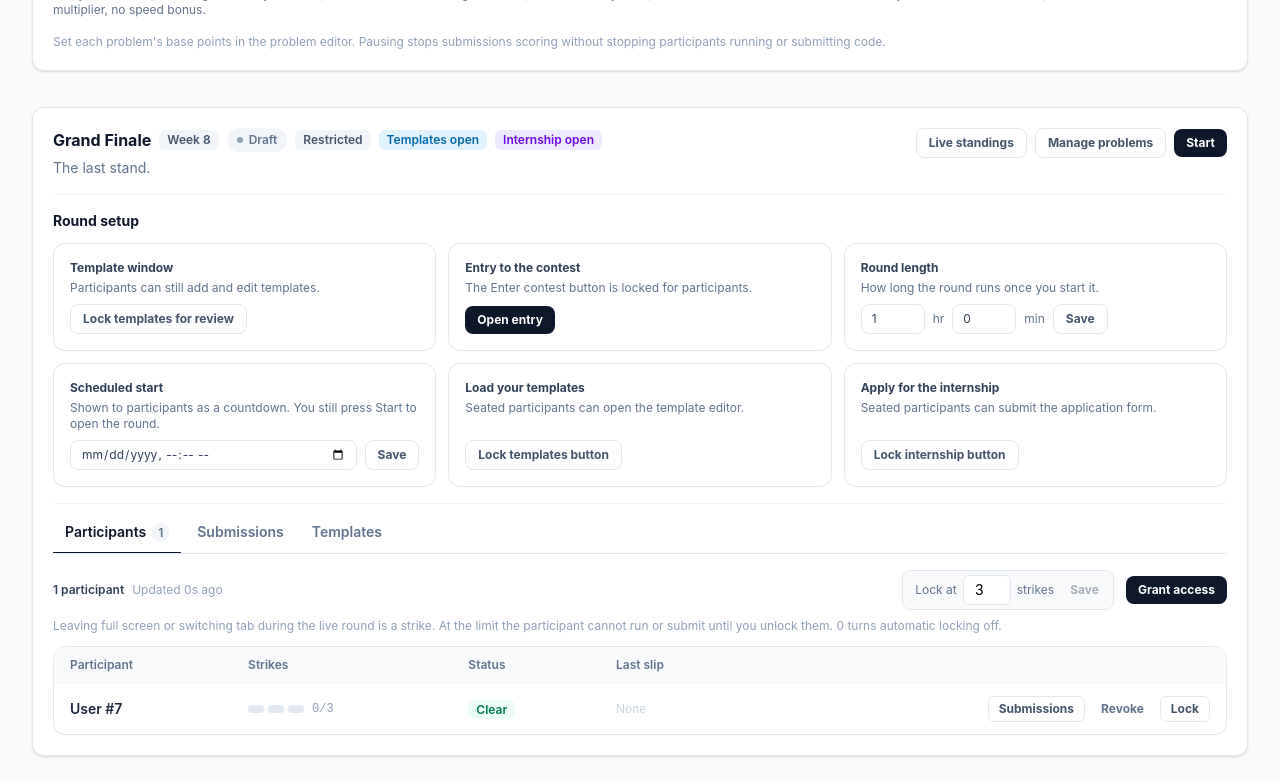
Scenario: FinalesPage › resolves grant names from the grant-search cache instead of showing a bare id
(page scrolled)
Expected: the heading "Grand Finale" is shown, x1=53 y1=128 x2=151 y2=152
Expected: the text "User #7" is shown, x1=70 y1=700 x2=122 y2=717
Step 1. Click the button "Grant access" → (1176, 590), box x1=1126 y1=576 x2=1227 y2=604
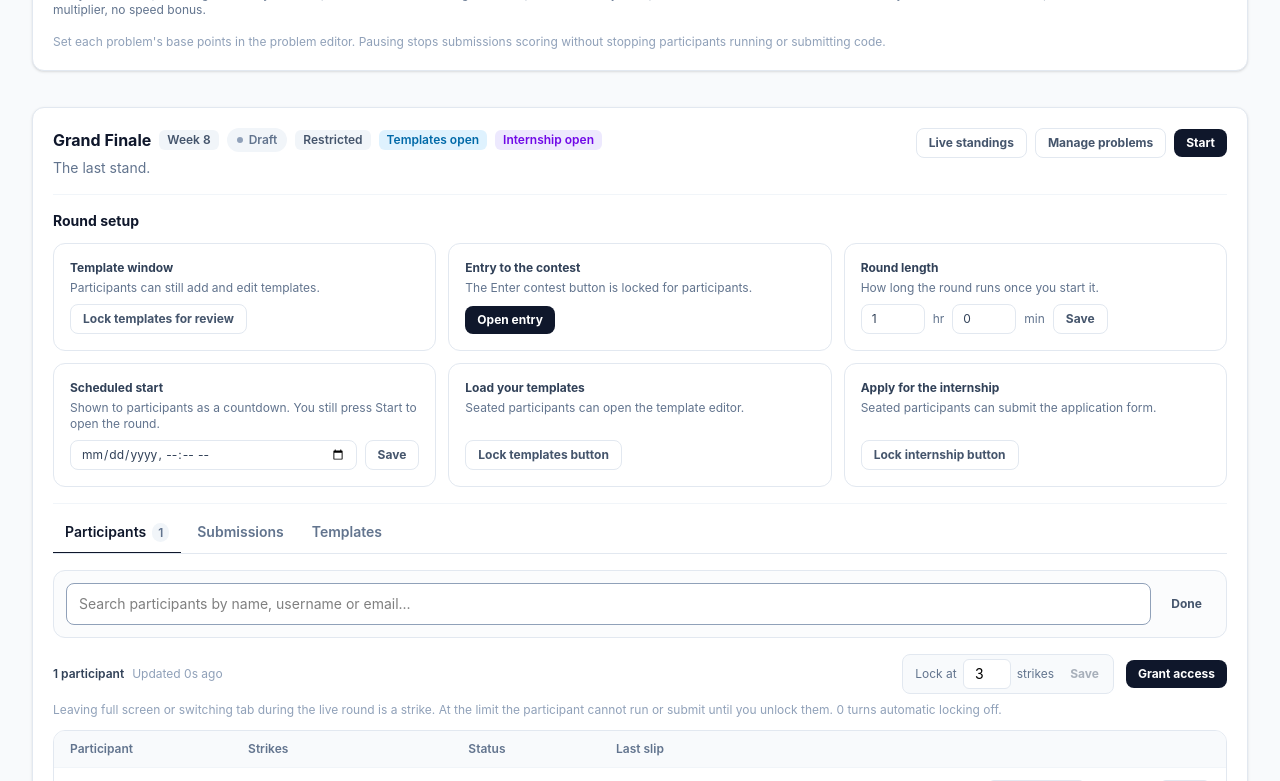
Step 2. Type "ada" into the field with placeholder "Search participants by name, username or email..." → (609, 604), box x1=66 y1=583 x2=1151 y2=625
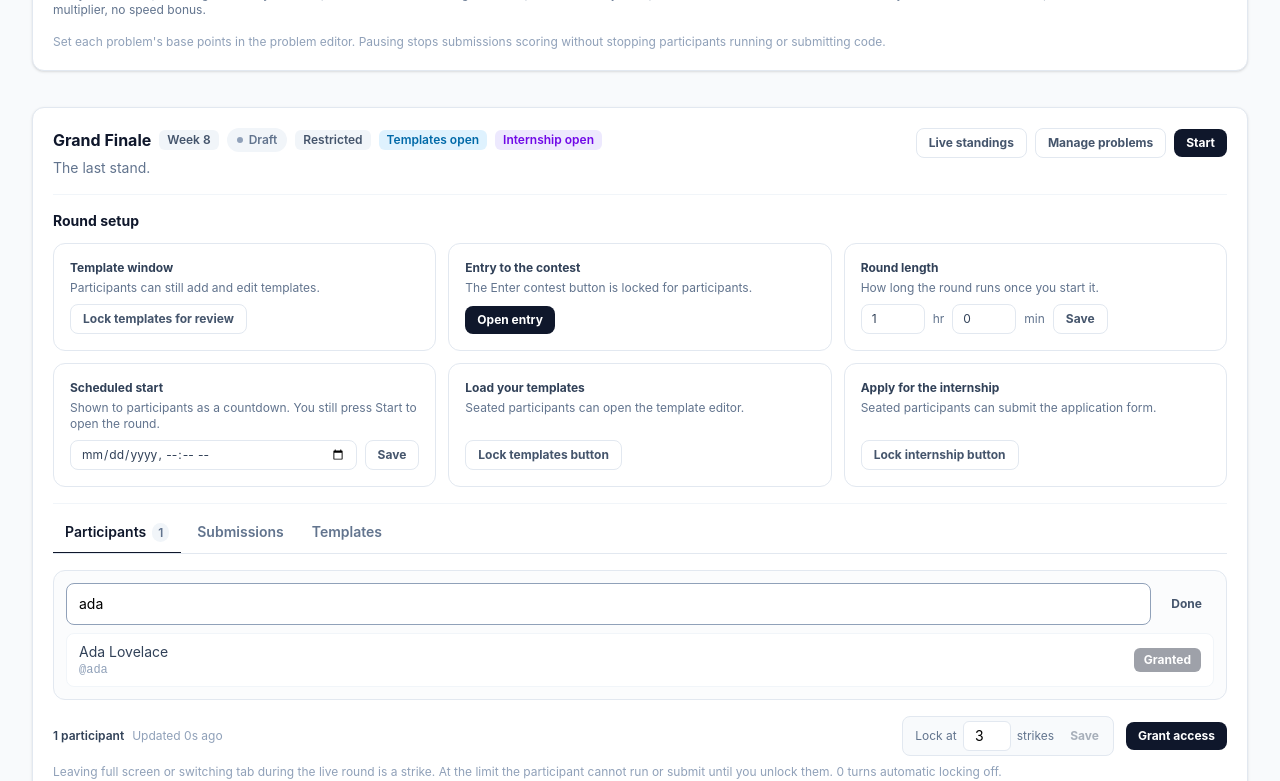
Expected: the text "@ada" is shown, x1=79 y1=663 x2=108 y2=677
